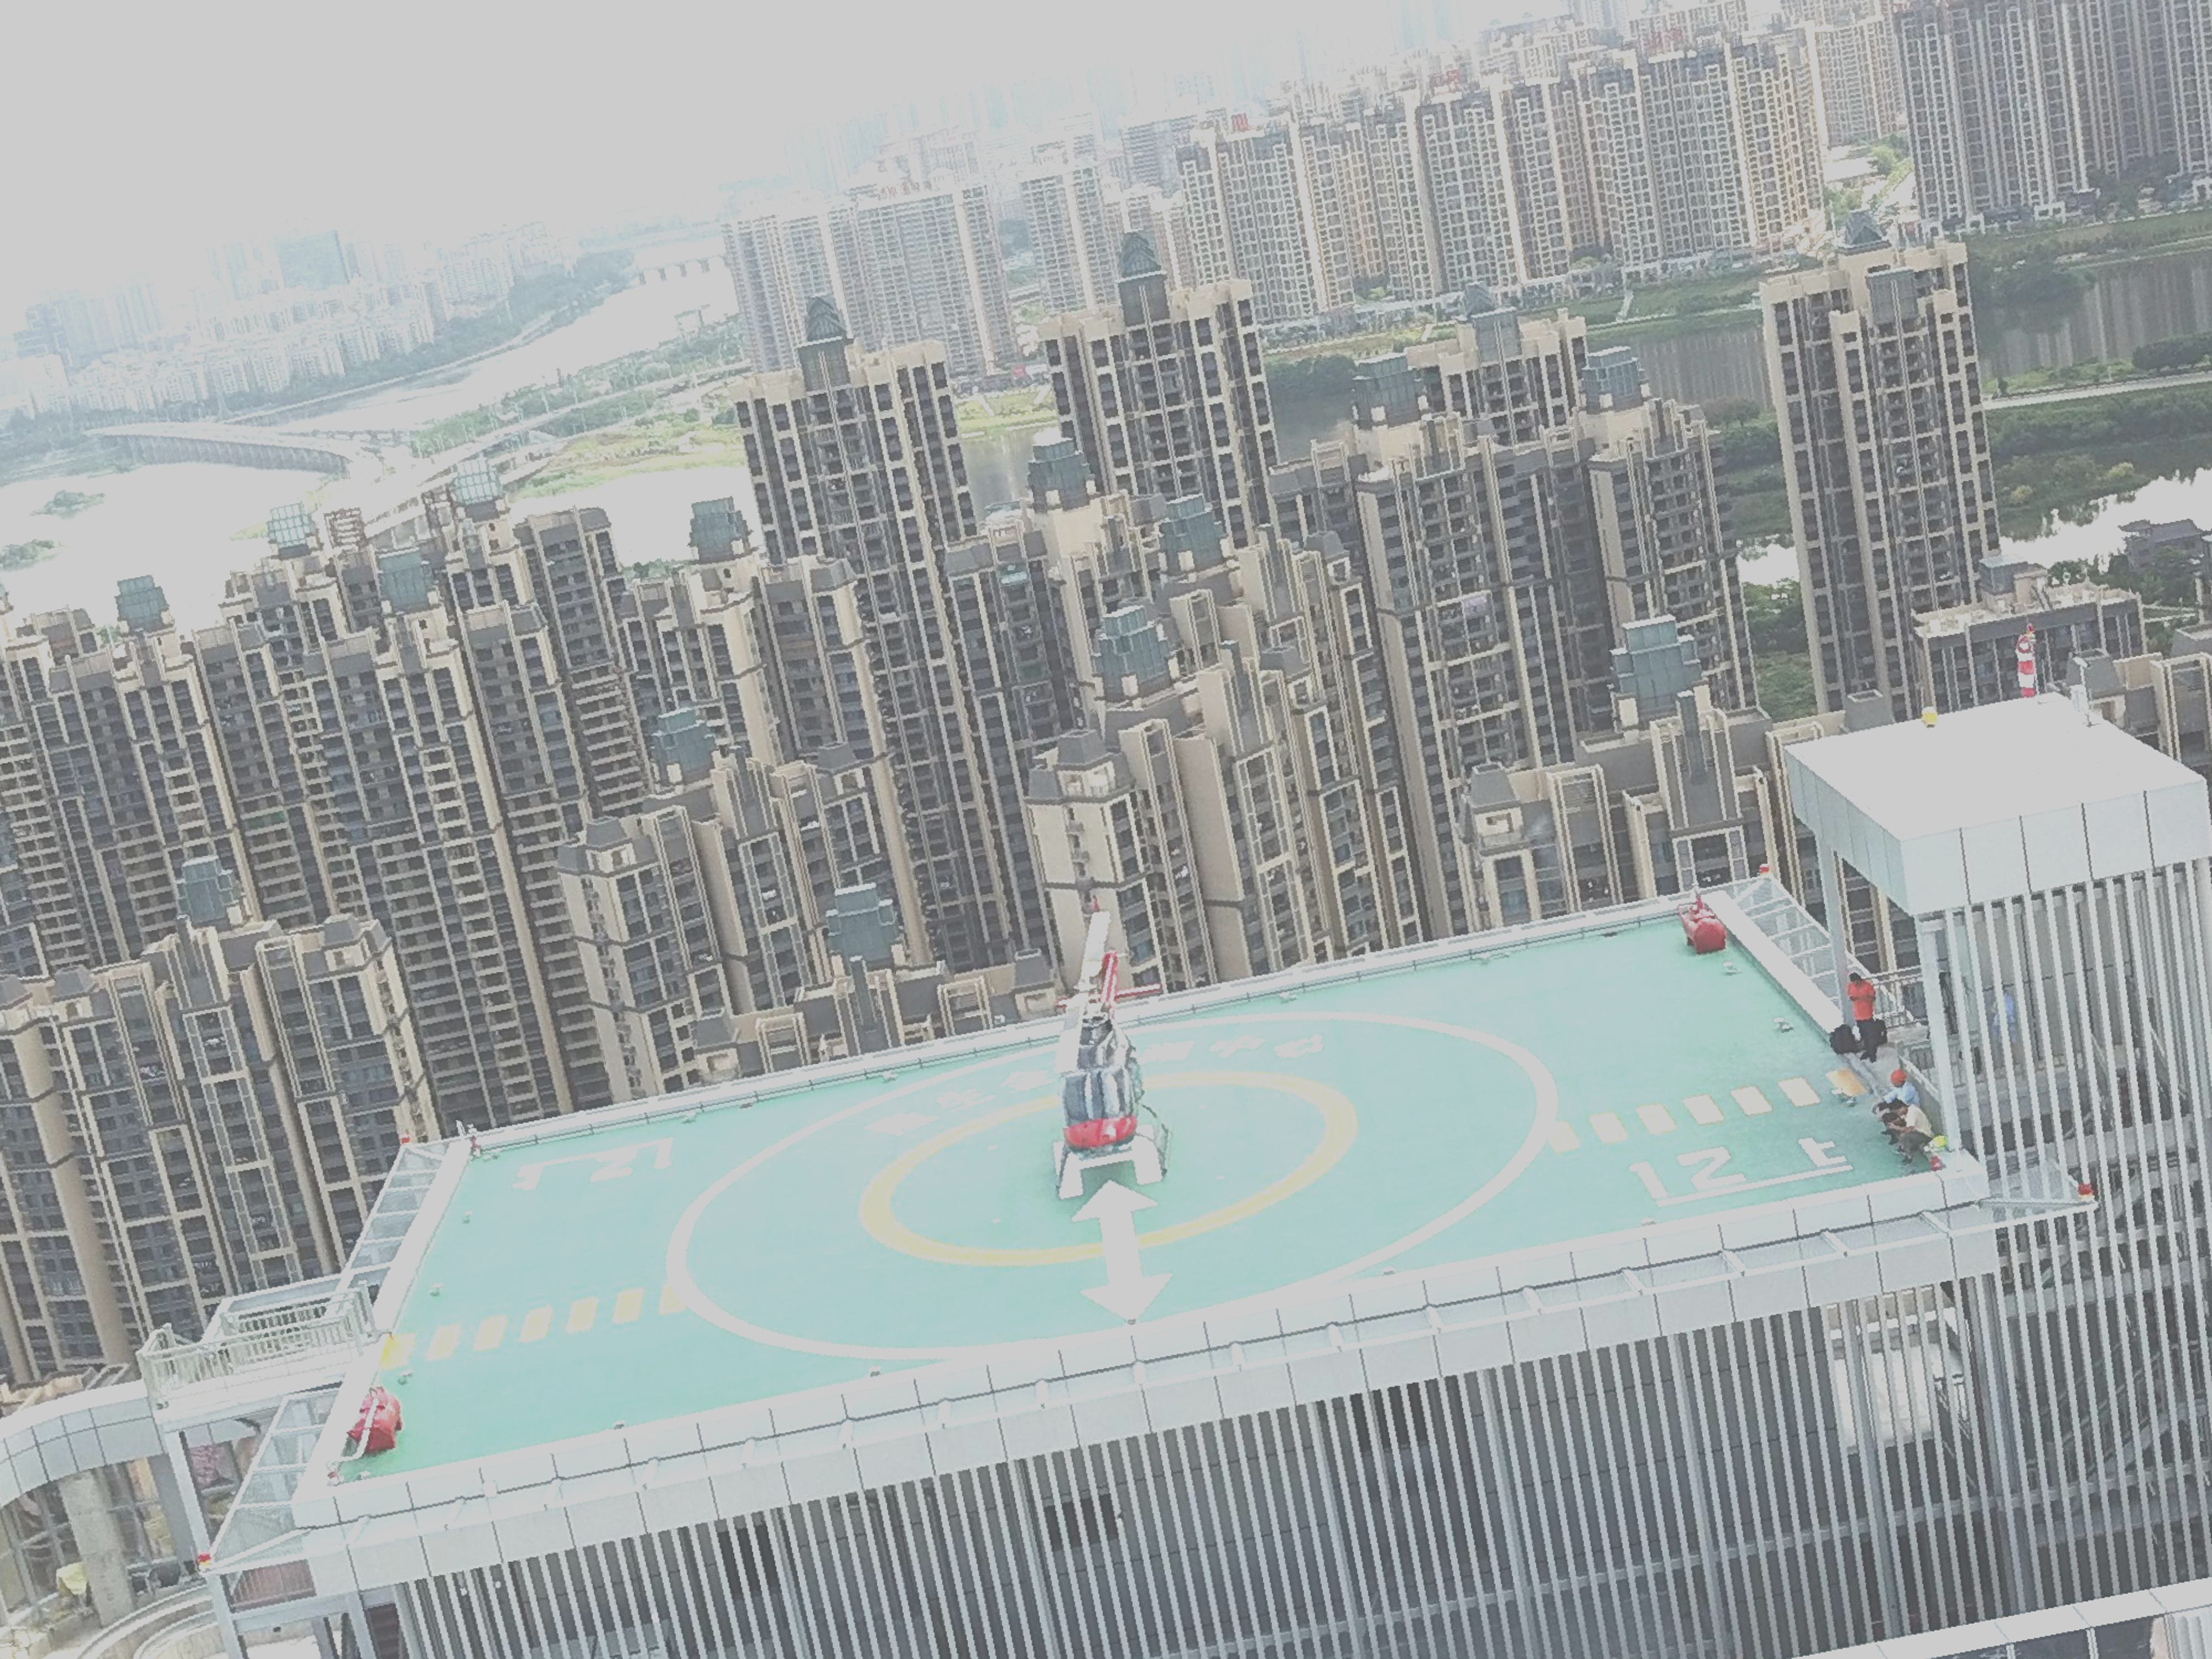Apron: (864, 1063, 1372, 1265)
